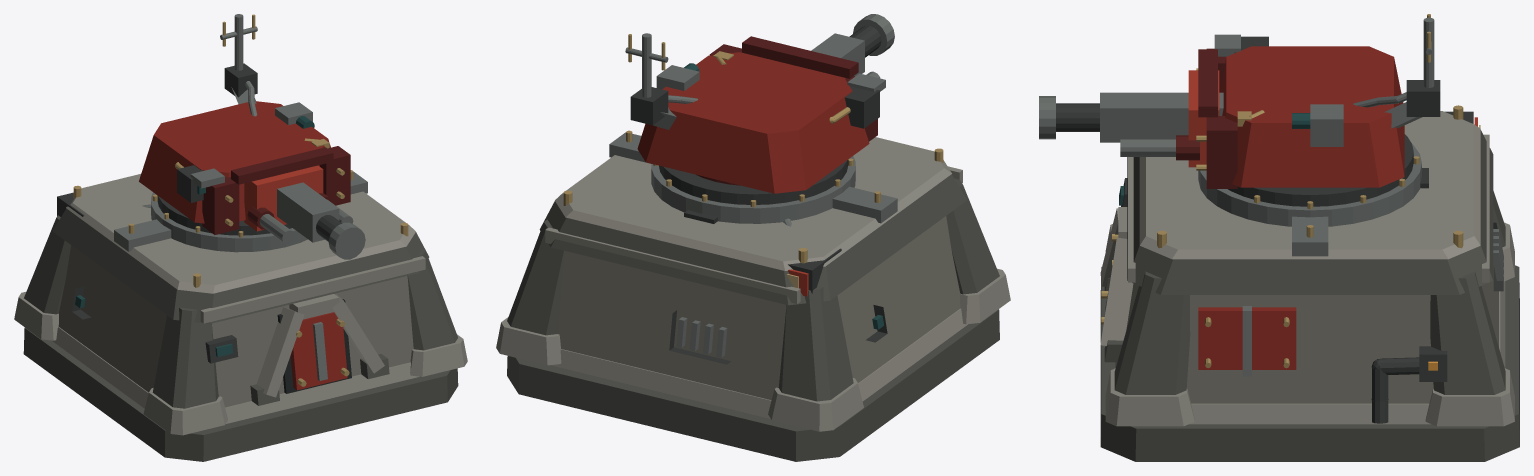
File: martian_heavy_weapon_bunker_v04_blender_export.glb
The picture shows the model from 3 angles, left to right: view 1: azimuth 30°, elevation 25°; view 2: azimuth 150°, elevation 25°; view 3: azimuth 270°, elevation 25°; orthographic projection. The views are drawn at different scales.
Parts seen in each view (by area): view 1: 03_monolithic_bunker_mass, 01_foundation_granular_ferrocrete, 05_top_concrete_skin, 16_martian_red_turret_armor, 04_upper_blast_cap, 06_corner_armor_buttress_WS, 02_lower_blast_raft, 53_south_slab_anchor_strip, 06_corner_armor_buttress_ES, 09_steel_service_hatch, 06_corner_armor_buttress_WN, 13_ring_lower_bearing_seat (+23 smaller); view 2: 03_monolithic_bunker_mass, 16_martian_red_turret_armor, 05_top_concrete_skin, 01_foundation_granular_ferrocrete, 04_upper_blast_cap, 02_lower_blast_raft, 06_corner_armor_buttress_WN, 13_ring_lower_bearing_seat, 06_corner_armor_buttress_EN, 06_corner_armor_buttress_WS, 14_ring_open_bearing_race, 07_corner_buttress_foot_WN (+14 smaller); view 3: 05_top_concrete_skin, 16_martian_red_turret_armor, 03_monolithic_bunker_mass, 01_foundation_granular_ferrocrete, 04_upper_blast_cap, 06_corner_armor_buttress_ES, 06_corner_armor_buttress_EN, 55_east_wall_controller_armor, 02_lower_blast_raft, 13_ring_lower_bearing_seat, 21_gun_tube_outer_shroud, 07_corner_buttress_foot_ES (+23 smaller).
Part boxes in pixels (x1=…): 03_monolithic_bunker_mass: x1=58, y1=245, x2=413, y2=407; 01_foundation_granular_ferrocrete: x1=23, y1=327, x2=458, y2=461; 05_top_concrete_skin: x1=66, y1=174, x2=415, y2=293; 16_martian_red_turret_armor: x1=139, y1=101, x2=330, y2=223; 04_upper_blast_cap: x1=52, y1=208, x2=429, y2=323; 06_corner_armor_buttress_WS: x1=152, y1=307, x2=218, y2=408; 02_lower_blast_raft: x1=52, y1=327, x2=419, y2=423; 53_south_slab_anchor_strip: x1=200, y1=256, x2=425, y2=323; 06_corner_armor_buttress_ES: x1=407, y1=248, x2=457, y2=350; 09_steel_service_hatch: x1=290, y1=312, x2=347, y2=390; 06_corner_armor_buttress_WN: x1=24, y1=215, x2=70, y2=314; 13_ring_lower_bearing_seat: x1=151, y1=192, x2=307, y2=252; 03_monolithic_bunker_mass: x1=557, y1=216, x2=960, y2=400; 16_martian_red_turret_armor: x1=637, y1=52, x2=869, y2=193; 05_top_concrete_skin: x1=555, y1=135, x2=951, y2=270; 01_foundation_granular_ferrocrete: x1=507, y1=309, x2=999, y2=461; 04_upper_blast_cap: x1=539, y1=174, x2=966, y2=305; 02_lower_blast_raft: x1=550, y1=308, x2=967, y2=418; 06_corner_armor_buttress_WN: x1=778, y1=287, x2=853, y2=401; 13_ring_lower_bearing_seat: x1=651, y1=156, x2=855, y2=223; 06_corner_armor_buttress_EN: x1=507, y1=219, x2=564, y2=335; 06_corner_armor_buttress_WS: x1=946, y1=178, x2=999, y2=294; 14_ring_open_bearing_race: x1=659, y1=159, x2=848, y2=204; 07_corner_buttress_foot_WN: x1=768, y1=378, x2=863, y2=431; 05_top_concrete_skin: x1=1139, y1=111, x2=1480, y2=259; 16_martian_red_turret_armor: x1=1220, y1=46, x2=1404, y2=187; 03_monolithic_bunker_mass: x1=1126, y1=263, x2=1498, y2=403; 01_foundation_granular_ferrocrete: x1=1100, y1=265, x2=1519, y2=461; 04_upper_blast_cap: x1=1127, y1=130, x2=1493, y2=294; 06_corner_armor_buttress_ES: x1=1114, y1=271, x2=1190, y2=394; 06_corner_armor_buttress_EN: x1=1430, y1=271, x2=1505, y2=394; 55_east_wall_controller_armor: x1=1198, y1=307, x2=1296, y2=369; 02_lower_blast_raft: x1=1115, y1=281, x2=1505, y2=424; 13_ring_lower_bearing_seat: x1=1198, y1=144, x2=1421, y2=226; 21_gun_tube_outer_shroud: x1=1100, y1=92, x2=1223, y2=142; 07_corner_buttress_foot_ES: x1=1105, y1=368, x2=1194, y2=426.
Size of the model in its own units: 3.04 by 3.01 by 3.44.
